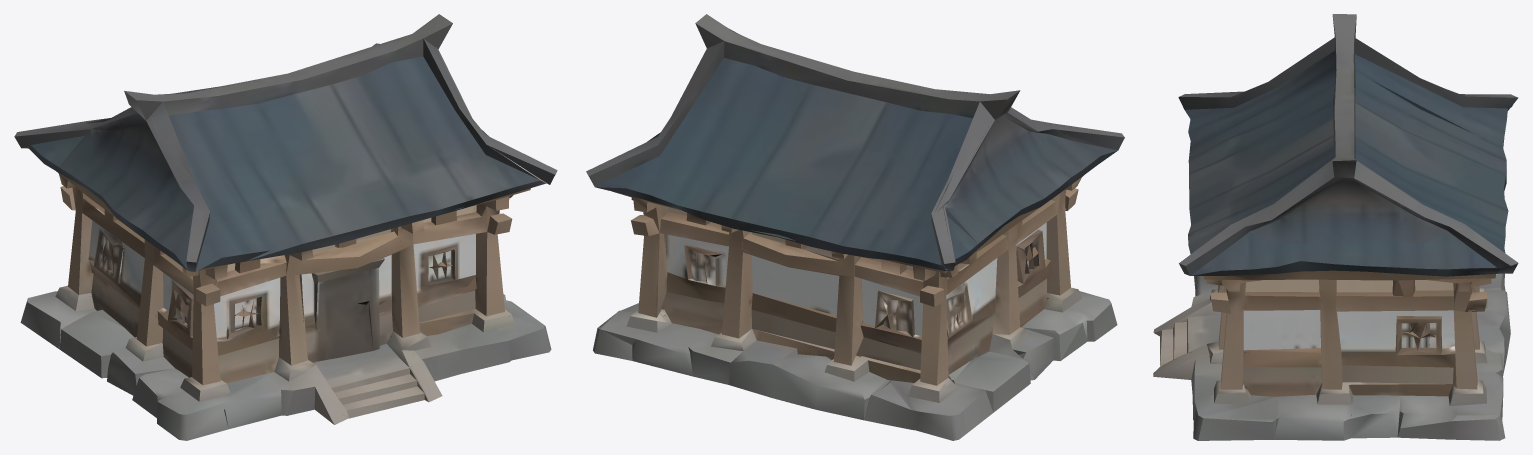
The picture shows the model from 3 angles, left to right: view 1: azimuth 30°, elevation 25°; view 2: azimuth 150°, elevation 25°; view 3: azimuth 270°, elevation 25°; orthographic projection. The views are drawn at different scales.
Visible parts, largest first — view 1: geometry_0; view 2: geometry_0; view 3: geometry_0.
Part boxes in pixels (box(x1,y1,x2,y2)): geometry_0: box(14, 14, 557, 440); geometry_0: box(586, 14, 1124, 440); geometry_0: box(1153, 14, 1518, 440).
Bounding box in the file's own units: 1 × 0.7239 × 0.8948.
1 material, 1 textured.
